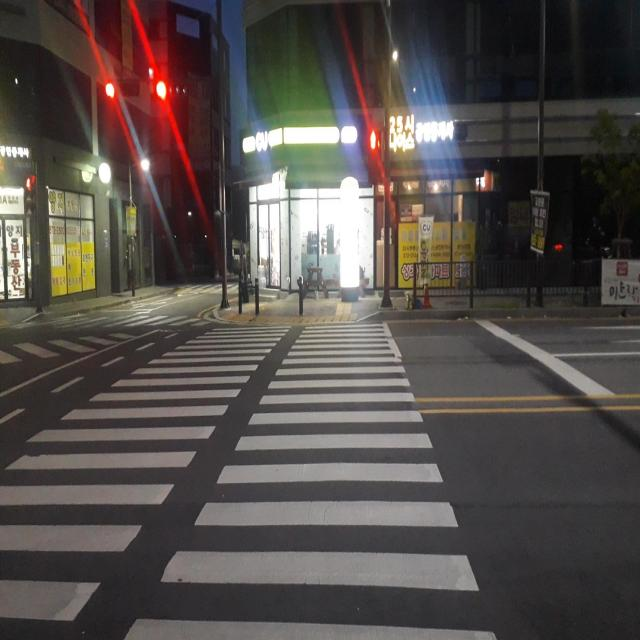빨간불: (366, 128, 381, 184)
횡단보도: (0, 318, 499, 640), (173, 282, 254, 295)
